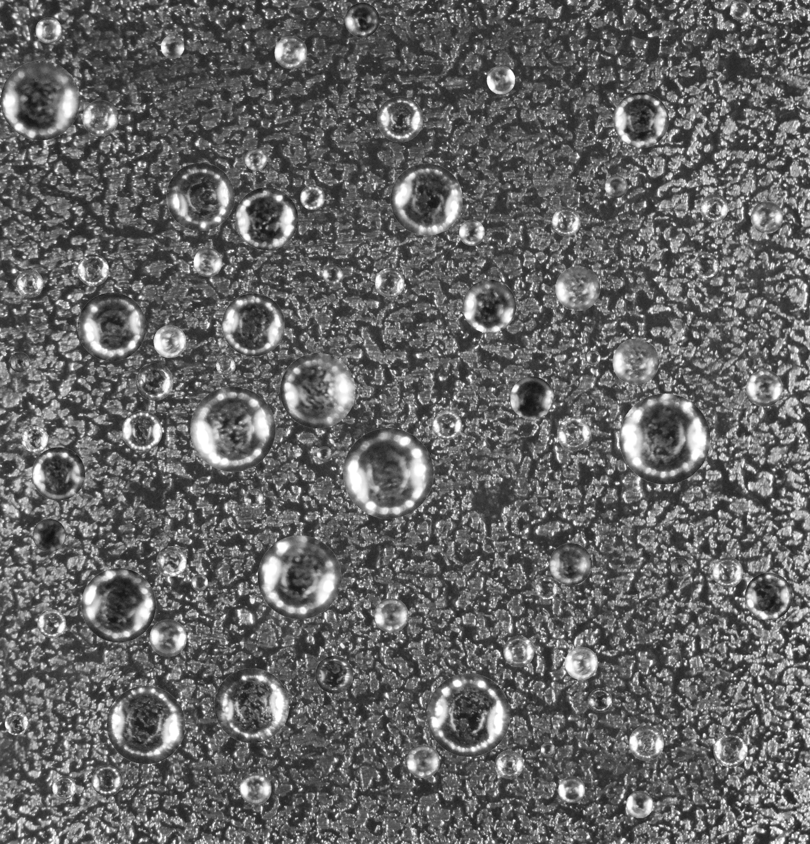Bubble: (619, 393, 710, 484), (343, 428, 433, 518), (190, 386, 275, 471), (257, 535, 341, 619), (427, 673, 510, 756), (0, 60, 79, 140), (106, 685, 185, 764), (280, 353, 355, 428), (214, 668, 289, 743), (81, 568, 155, 642), (390, 163, 462, 235), (77, 292, 146, 361), (166, 162, 234, 230), (221, 293, 284, 356), (235, 187, 298, 250), (613, 92, 668, 147), (31, 447, 85, 500), (462, 279, 516, 332), (745, 572, 792, 620), (612, 338, 659, 385), (377, 96, 422, 142), (555, 266, 600, 310), (510, 376, 553, 419), (549, 543, 591, 585), (122, 411, 162, 451), (315, 655, 353, 693), (135, 363, 173, 400), (149, 619, 186, 656), (82, 100, 118, 136), (746, 370, 782, 406), (629, 725, 664, 760), (344, 2, 379, 37), (557, 416, 591, 451), (713, 732, 747, 767), (374, 598, 408, 632), (32, 518, 65, 552), (406, 745, 439, 778), (274, 36, 307, 68), (750, 201, 783, 233), (153, 325, 186, 357), (565, 647, 597, 679), (239, 773, 271, 804), (91, 765, 122, 796), (503, 636, 534, 667), (77, 254, 108, 285), (712, 557, 743, 587), (156, 546, 186, 576), (486, 65, 515, 94), (432, 410, 461, 439), (494, 750, 523, 779), (375, 268, 404, 297), (193, 248, 222, 276), (552, 207, 580, 236), (37, 609, 65, 637), (20, 424, 48, 452), (700, 193, 728, 221), (15, 269, 43, 297), (626, 791, 653, 818), (558, 776, 585, 803), (35, 17, 61, 43), (459, 219, 484, 245), (693, 253, 718, 278), (4, 711, 28, 735), (588, 688, 612, 712), (300, 185, 324, 209), (160, 35, 184, 58), (52, 776, 75, 799), (535, 577, 558, 599), (244, 148, 266, 170), (605, 175, 627, 197), (322, 263, 343, 284), (243, 488, 263, 508), (730, 0, 750, 20), (9, 352, 29, 372), (216, 355, 235, 375), (669, 557, 689, 576), (190, 574, 207, 590), (316, 446, 332, 461), (585, 350, 600, 365), (540, 742, 555, 757)
